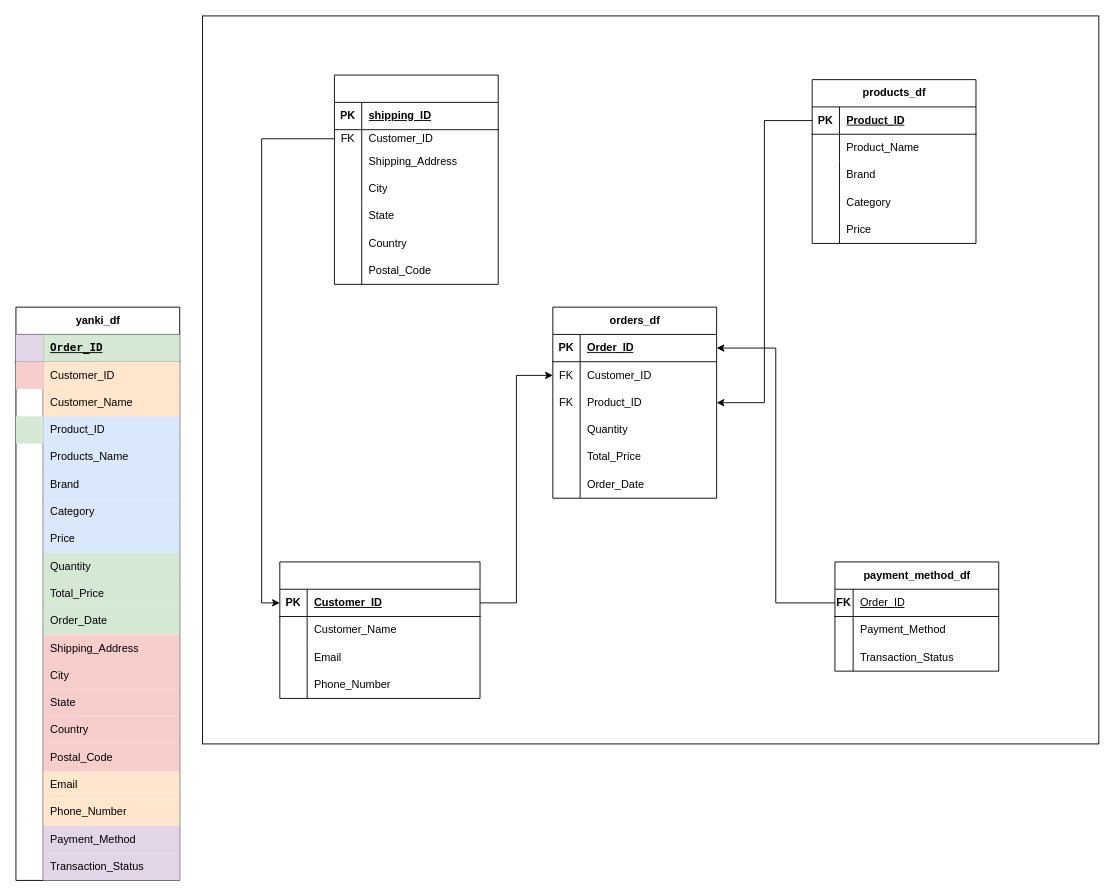
The diagram is 1115 pixels wide and 896 high, and some of its shapes have lost their labels. The box of each missing label's shape, as (x1, y1, x2, y2) in pixels:
customers_df: (279, 561, 480, 698)
shipping_address_df: (334, 74, 498, 284)
